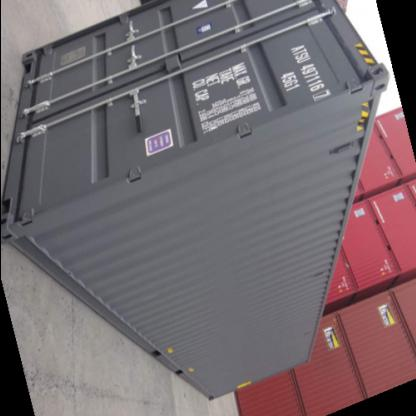Damage: (205, 78, 243, 106), (128, 112, 152, 140), (302, 268, 332, 288)
